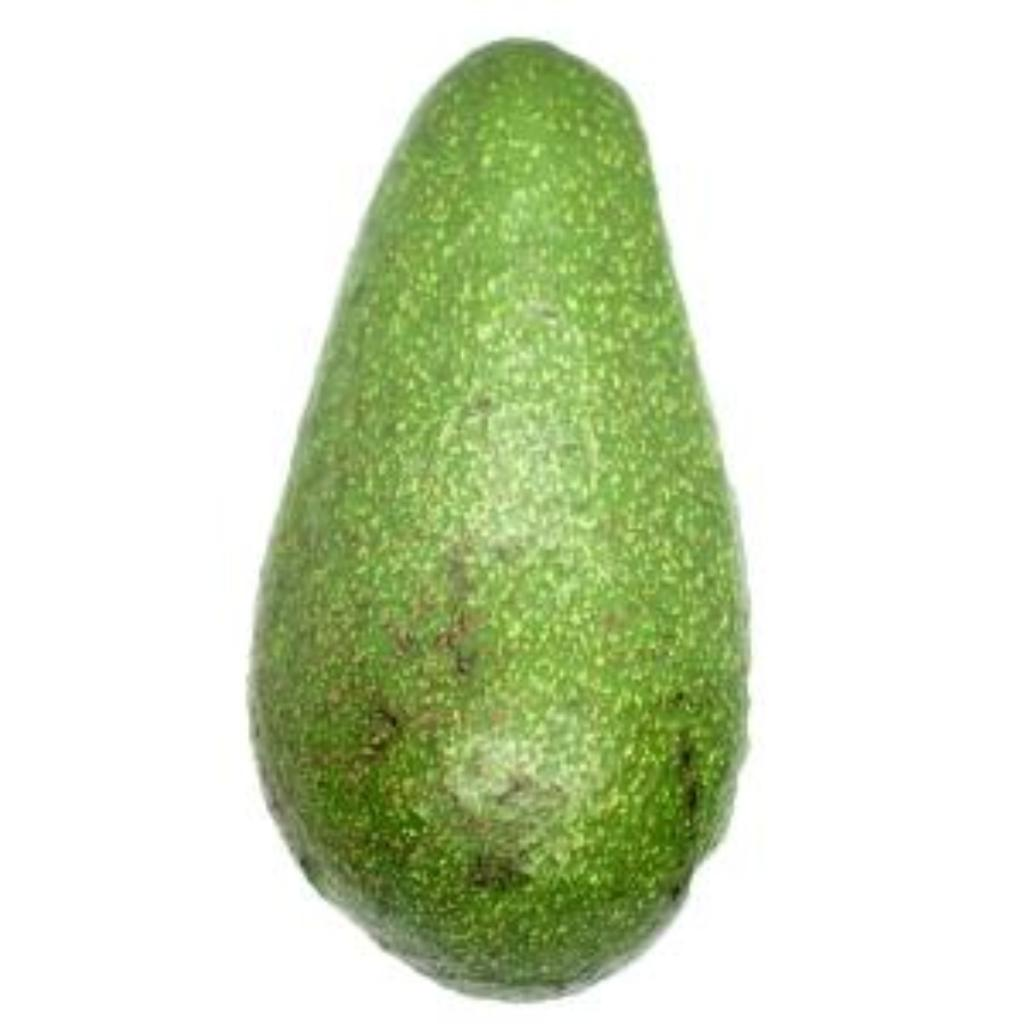cercospora_spot: (248, 34, 780, 1004)
